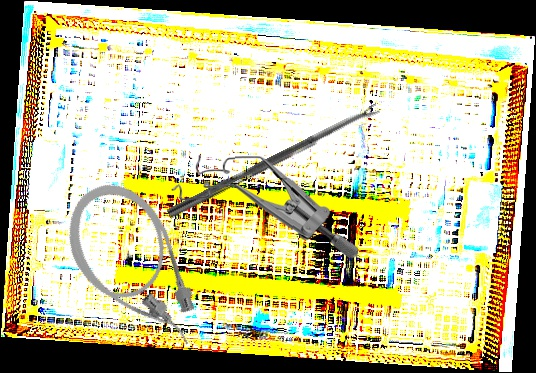Cannula: (48, 167, 218, 373)
Speculum: (170, 151, 358, 263)
Surgical Spoon: (166, 103, 381, 220)
